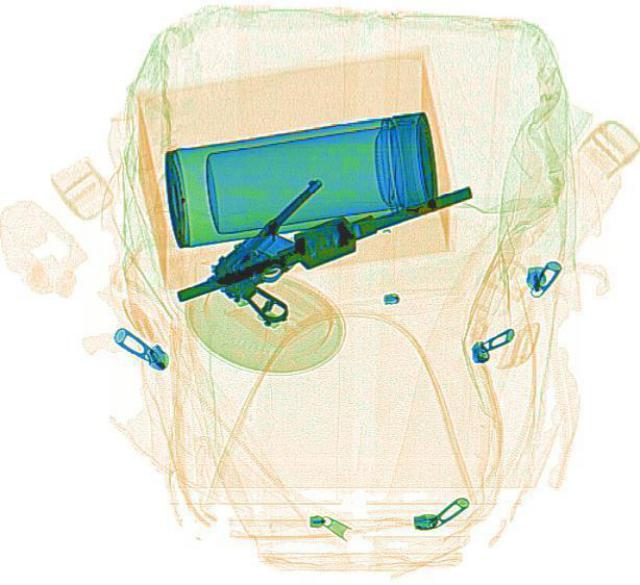Gun: (195, 169, 382, 330)
